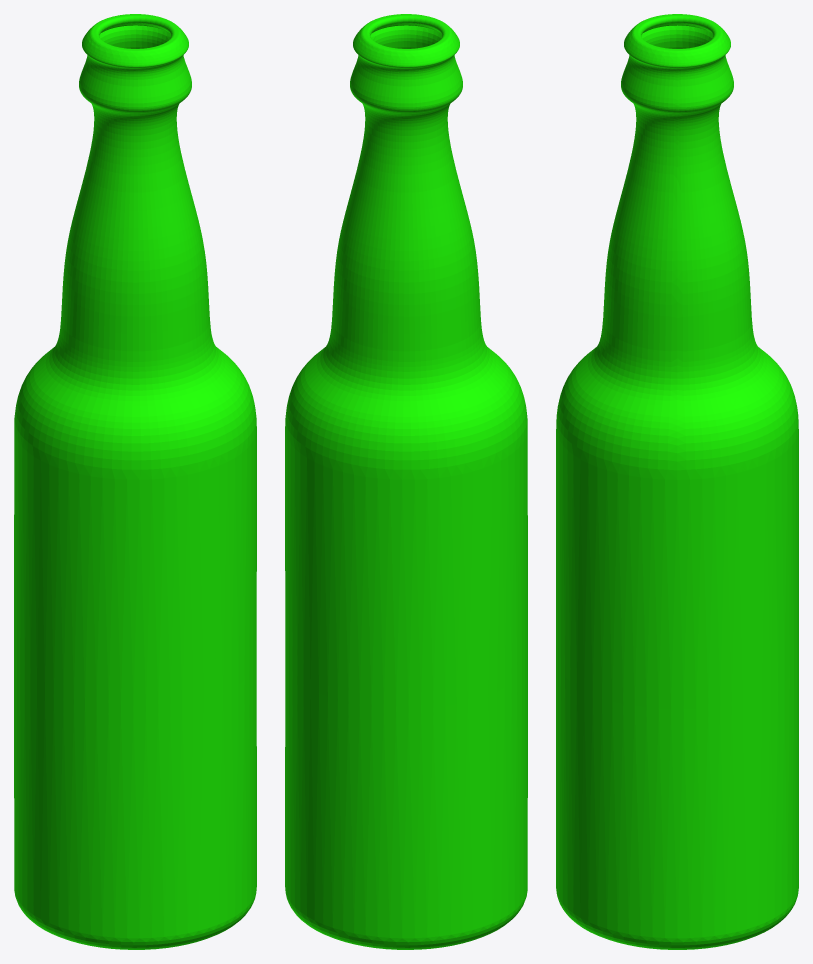
File: Bottle.glb
3 views of the same model, side by side, from view 1: azimuth 30°, elevation 25°; view 2: azimuth 150°, elevation 25°; view 3: azimuth 270°, elevation 25° (orthographic).
Parts seen in each view (by area): view 1: Bottle_; view 2: Bottle_; view 3: Bottle_.
Part boxes in pixels (x1,y1,x2,y2): Bottle_: (14,14,256,949); Bottle_: (285,14,527,949); Bottle_: (556,14,798,949).
Size of what is drawn, in the model's own units: 60 by 238 by 59.98.
